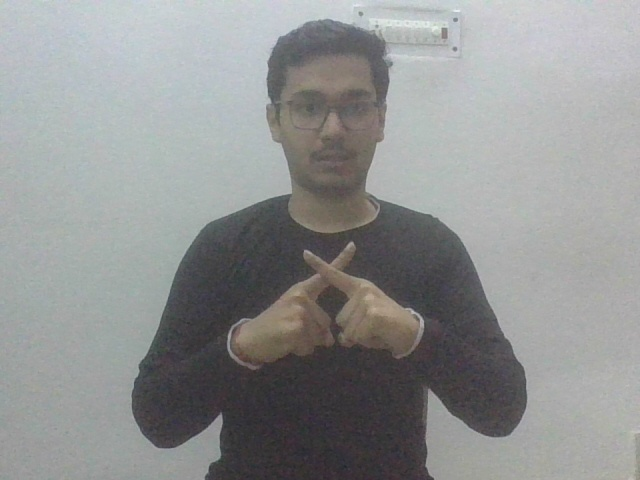X: (256, 234, 396, 365)
